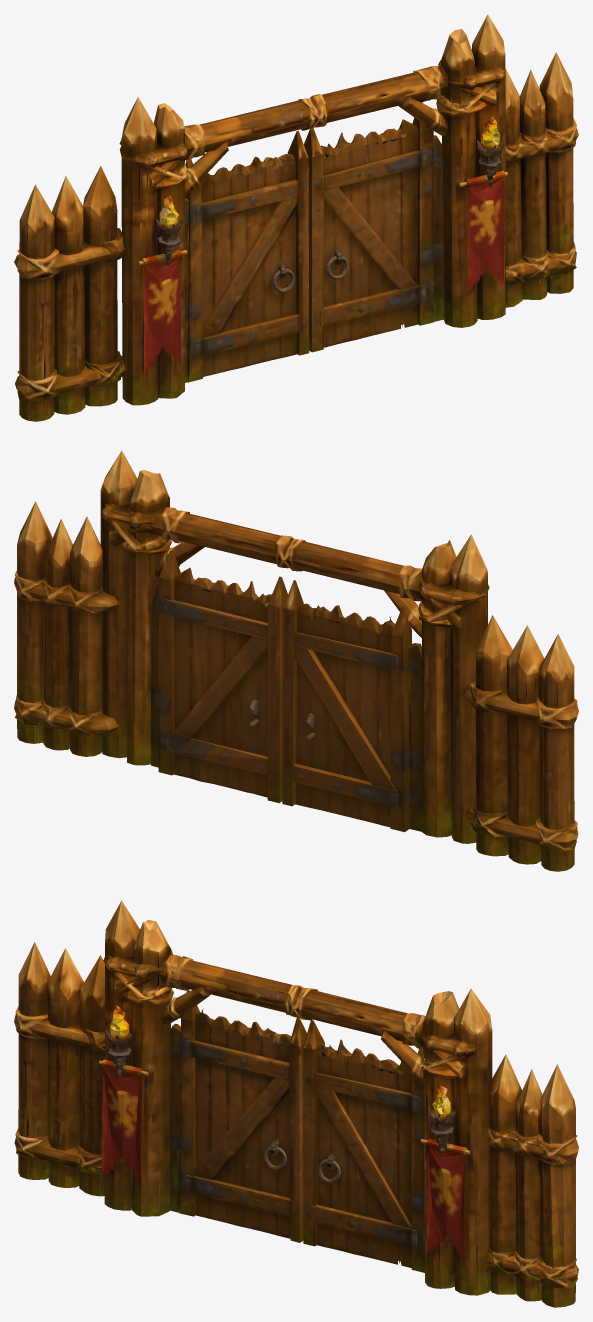
File: Gatelvl1.glb
The picture shows the model from 3 angles, top to bottom: view 1: azimuth 30°, elevation 25°; view 2: azimuth 150°, elevation 25°; view 3: azimuth 330°, elevation 25°; orthographic projection.
Visible parts, largest first — view 1: gateframe, gateright, gateleft; view 2: gateframe, gateleft, gateright; view 3: gateframe, gateleft, gateright.
Boxes of the visible parts, x1,y1,x2,y2 form: gateframe: [14, 14, 578, 421]; gateright: [304, 102, 433, 352]; gateleft: [185, 130, 309, 382]; gateframe: [14, 450, 578, 871]; gateleft: [282, 580, 411, 832]; gateright: [158, 550, 287, 803]; gateframe: [14, 900, 578, 1307]; gateleft: [179, 990, 306, 1242]; gateright: [303, 1020, 424, 1272].
Bounding box in the file's own units: 0.2328 × 0.12 × 0.0318.
1 material, 1 textured.
